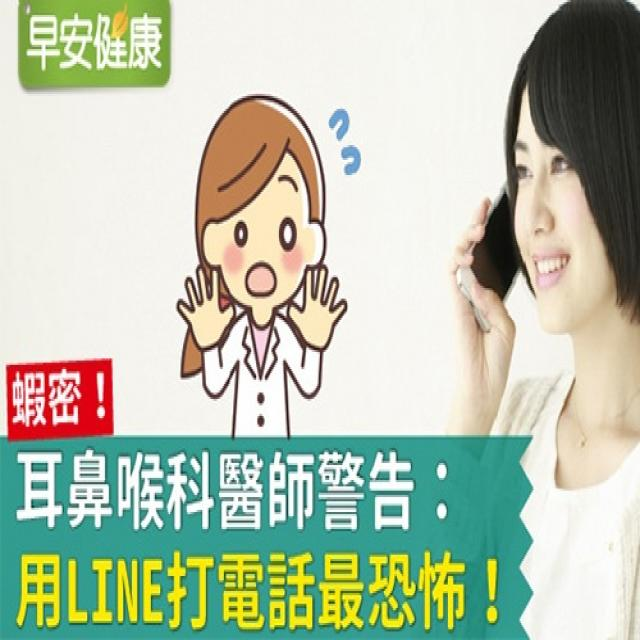phone: (447, 136, 540, 358)
